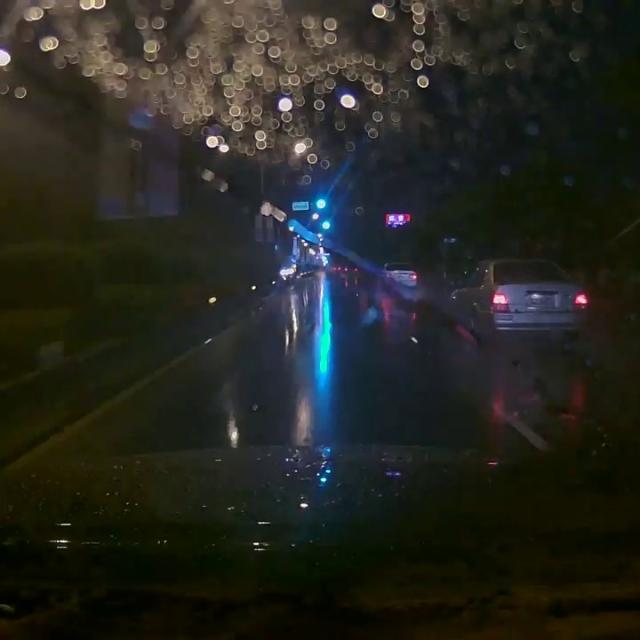Car: (440, 256, 590, 351), (377, 258, 417, 289)
